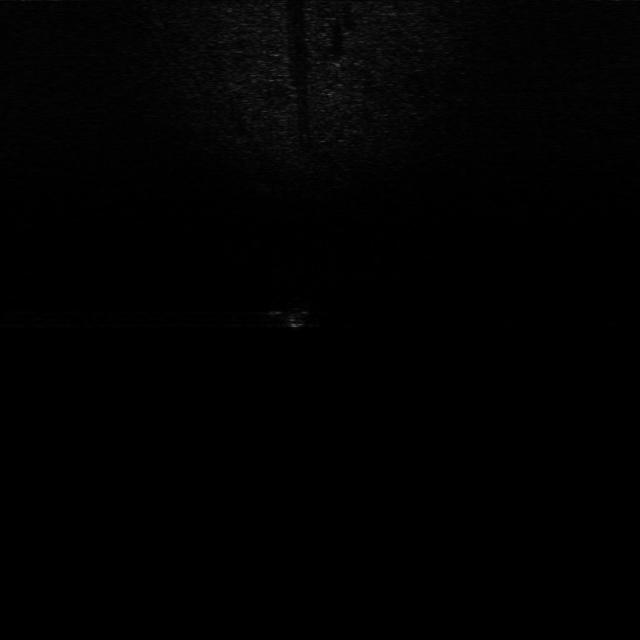human body: (260, 299, 320, 331)
